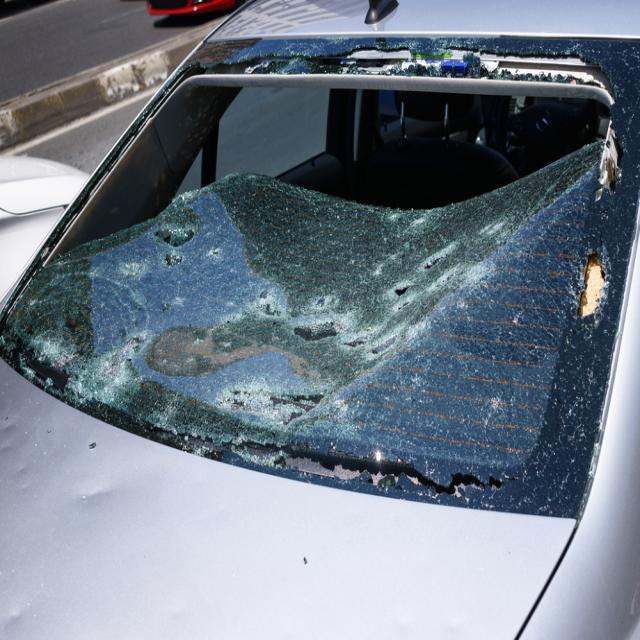Windshield: (185, 70, 619, 537), (21, 232, 169, 437)
